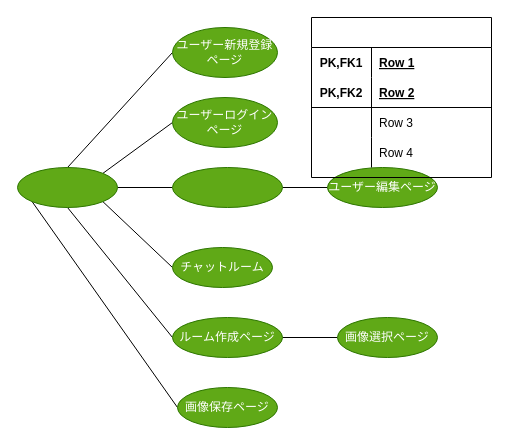
Some shapes in this 509 by 445 pixel diagram are drawn without their labels. Here are the shapes that lost their labels. From the top down, the box of each, then its label:
(310, 16, 492, 178): Table
(16, 166, 118, 208): 一覧ページ
(172, 166, 282, 208): ユーザー詳細ページ
